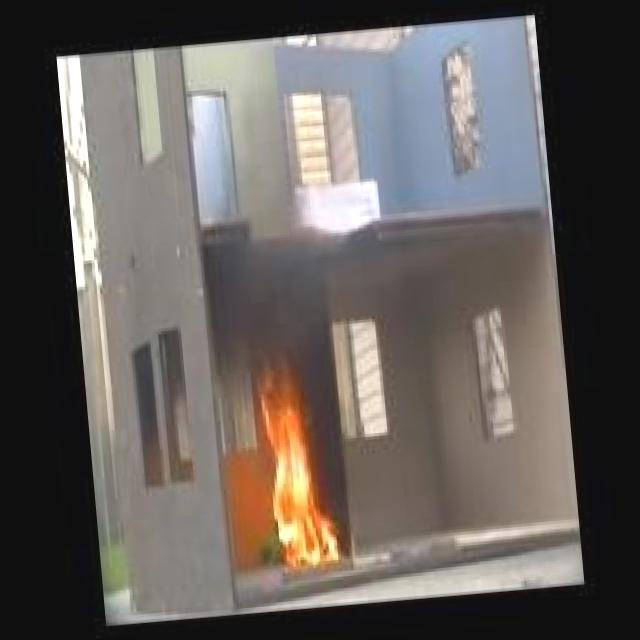fire: (228, 347, 359, 576)
